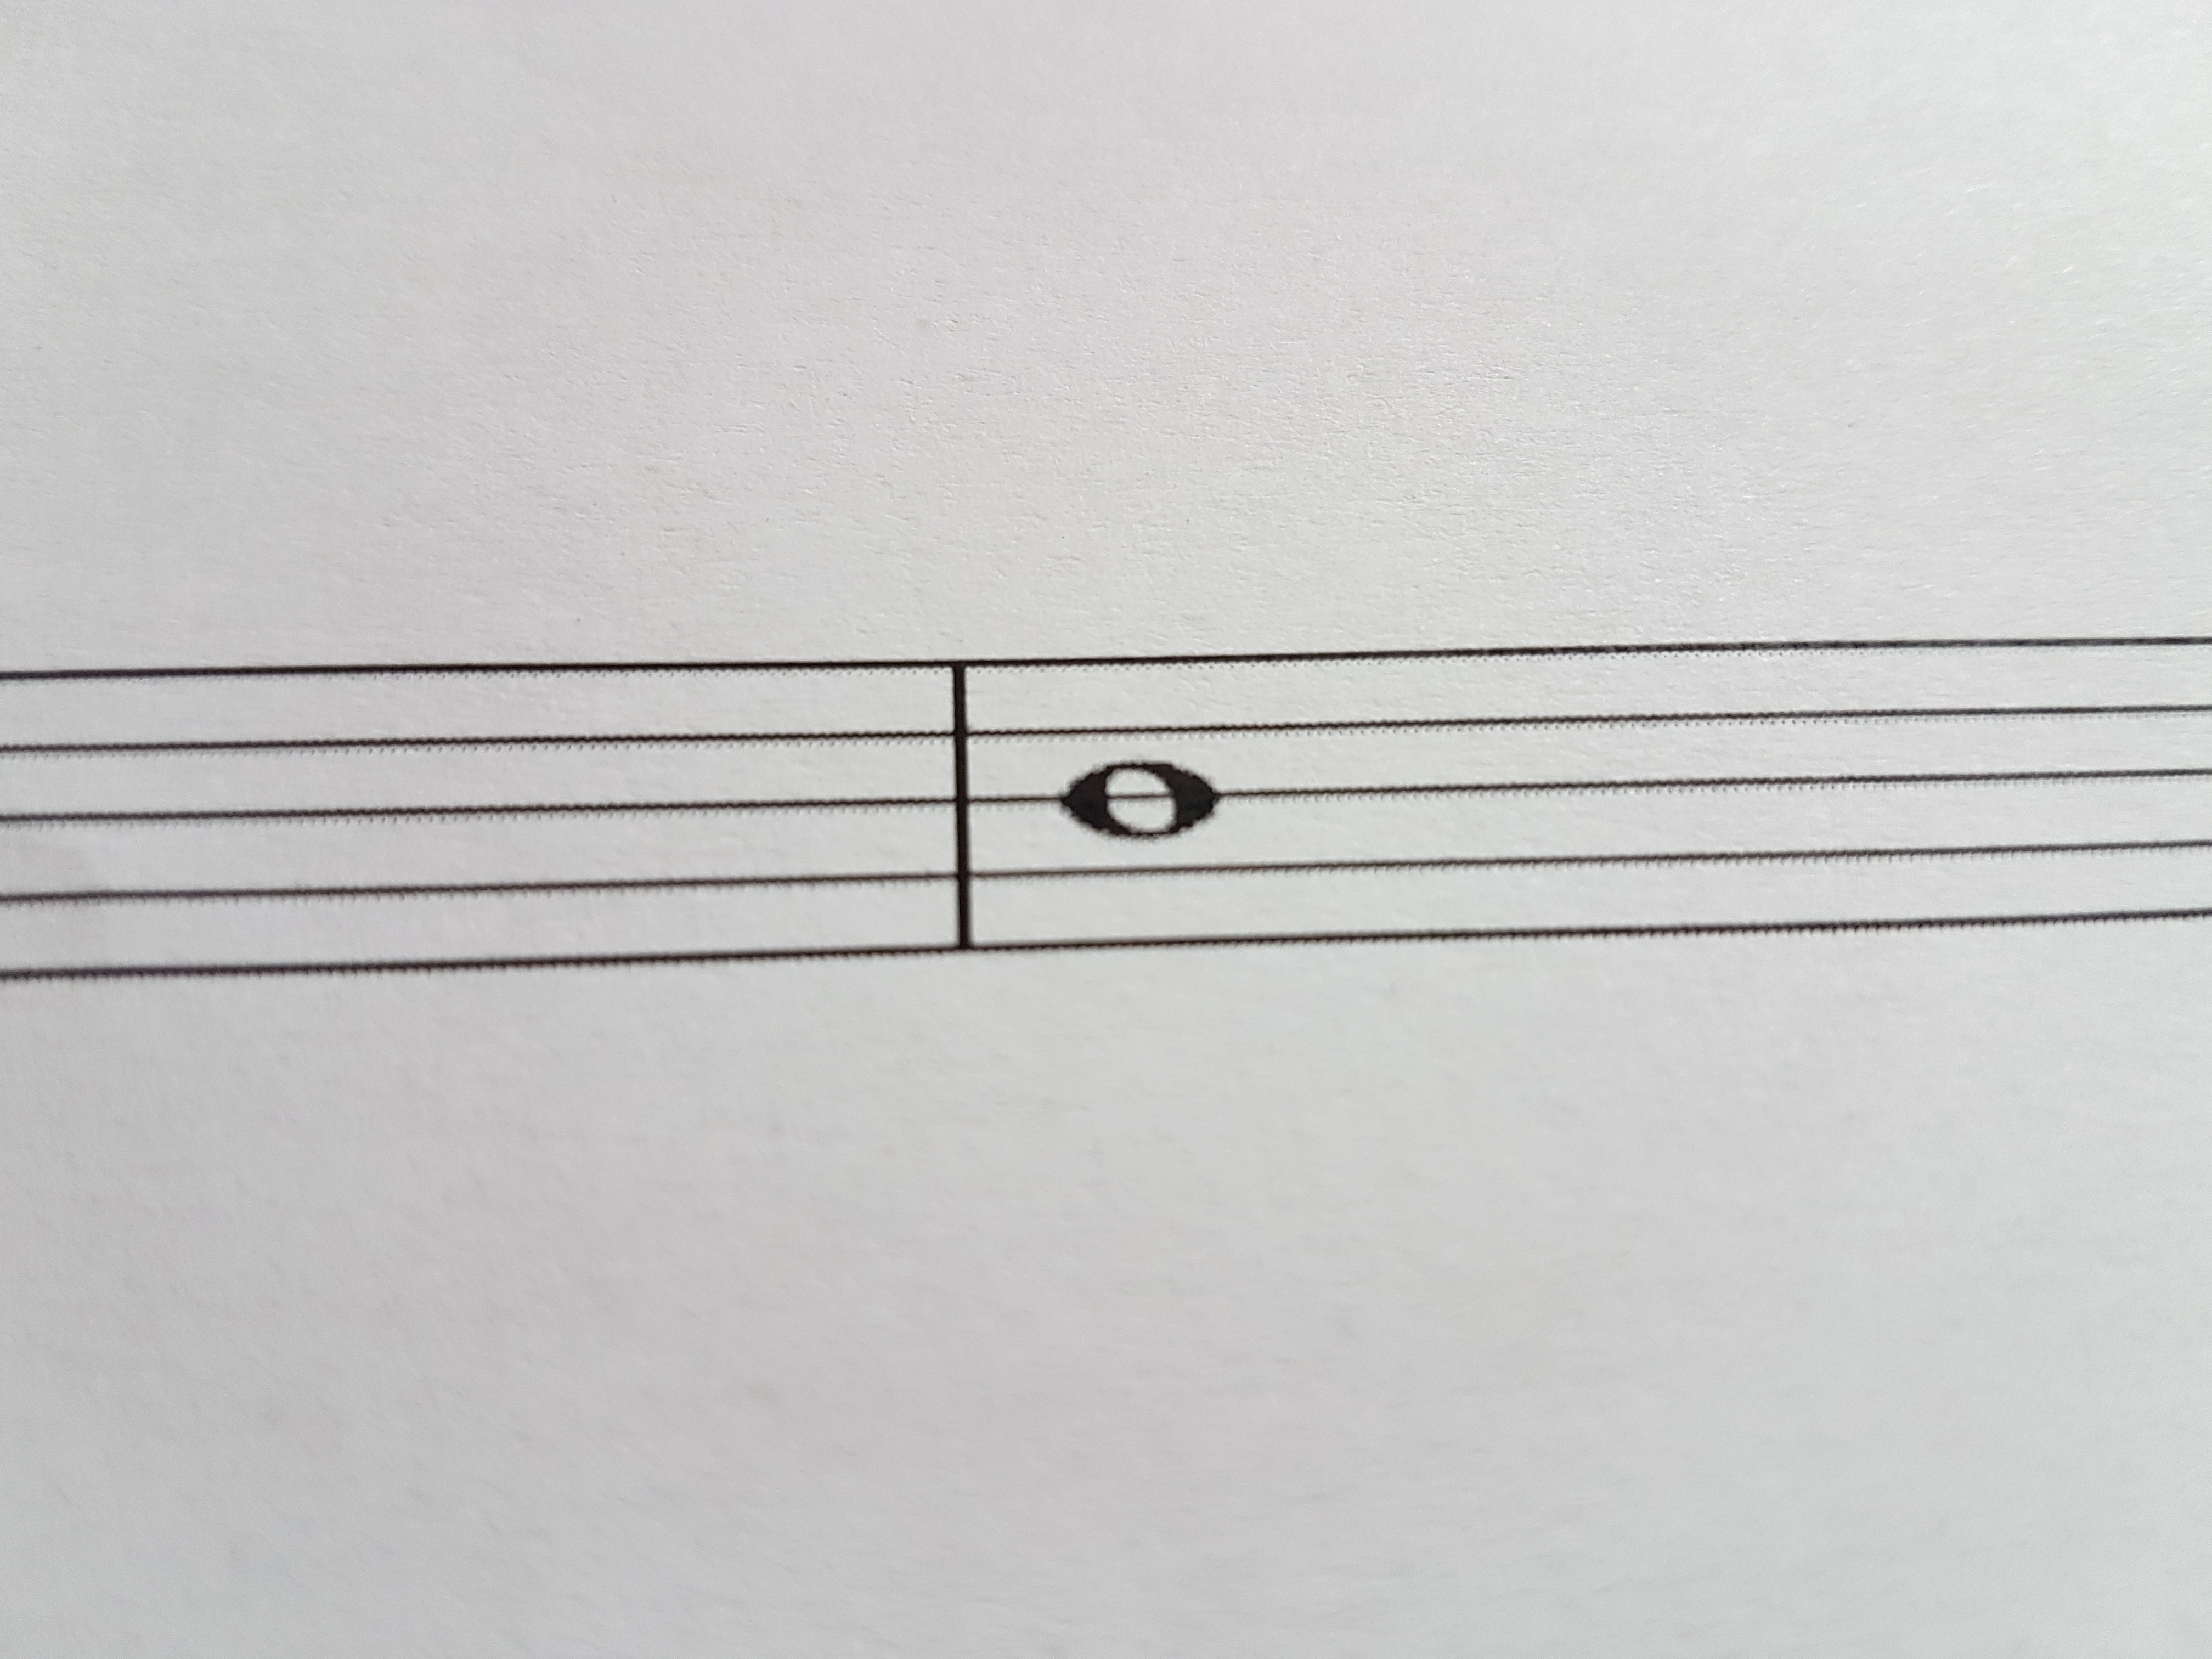pipe: (928, 631, 996, 979)
semibreve_h: (1029, 584, 1238, 1051)
